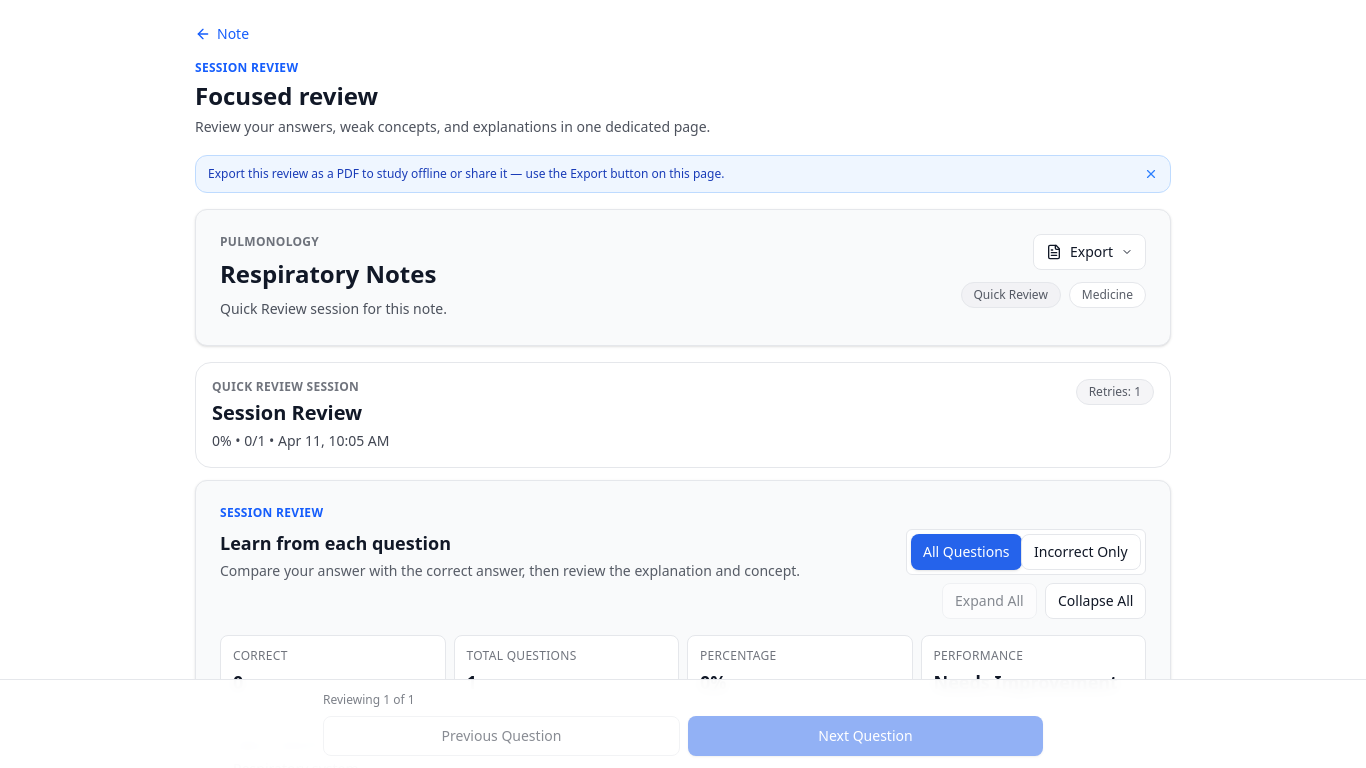
Test: NoteSessionReviewPageClient › exports the full review PDF with clear feedback when Full Review is selected
Step 1. Click the button "Export" → coordinates (1089, 252), box x1=1033 y1=234 x2=1146 y2=270
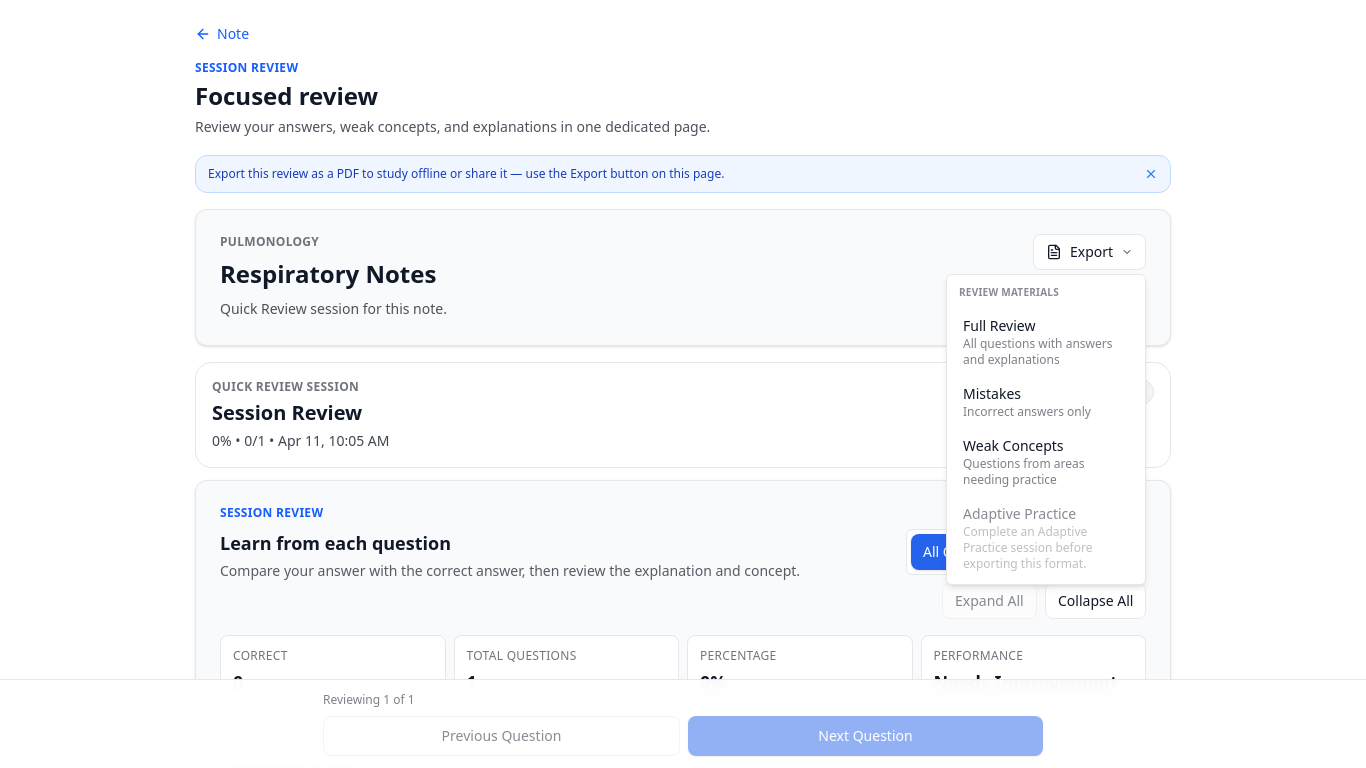
Step 2. Click the button "Full Review All questions with answers and explanations" → coordinates (1046, 342), box x1=951 y1=308 x2=1141 y2=376
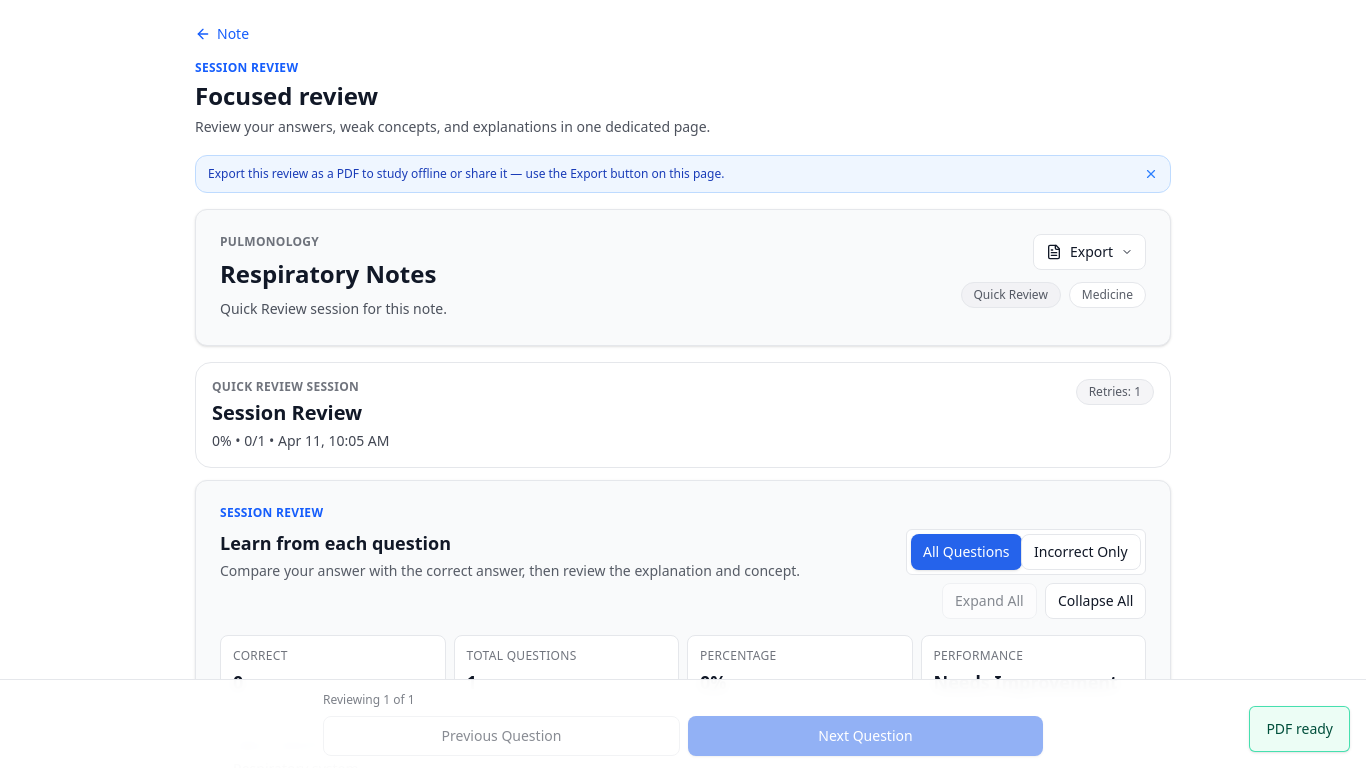
Expected: the text "PDF ready" is shown, x1=1249 y1=706 x2=1350 y2=752
